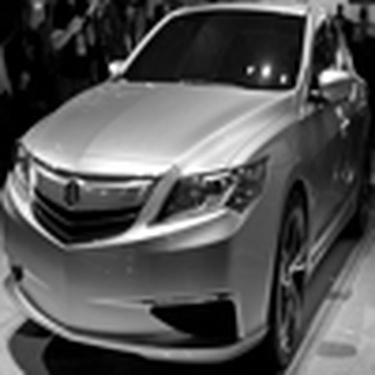car: (4, 1, 373, 373)
